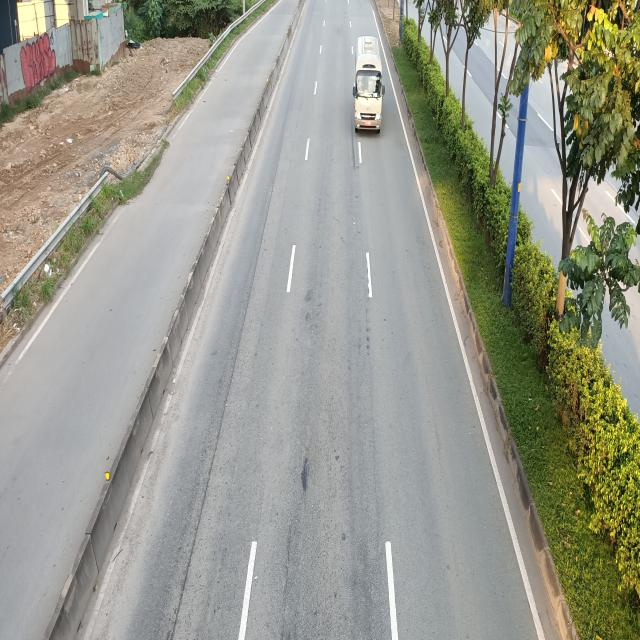coach: (351, 37, 384, 135)
